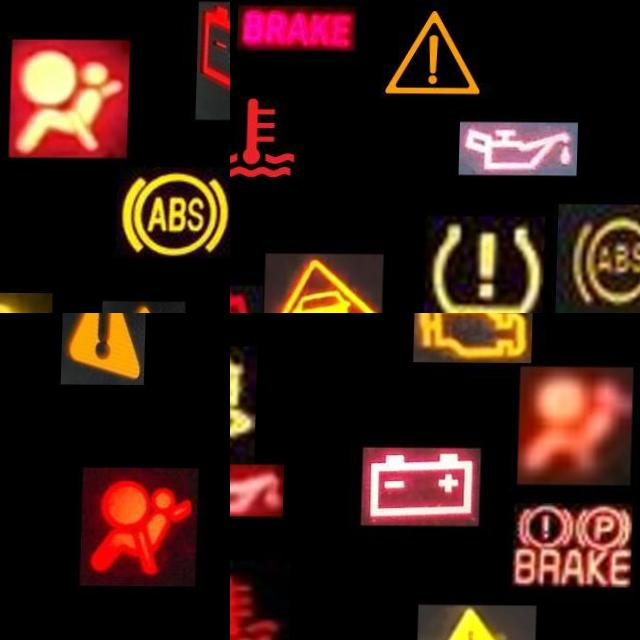Central Warning lamp: (373, 0, 494, 111), (62, 313, 148, 384), (418, 604, 538, 640)
Engine cooling system: (230, 78, 313, 196), (230, 560, 293, 640)
